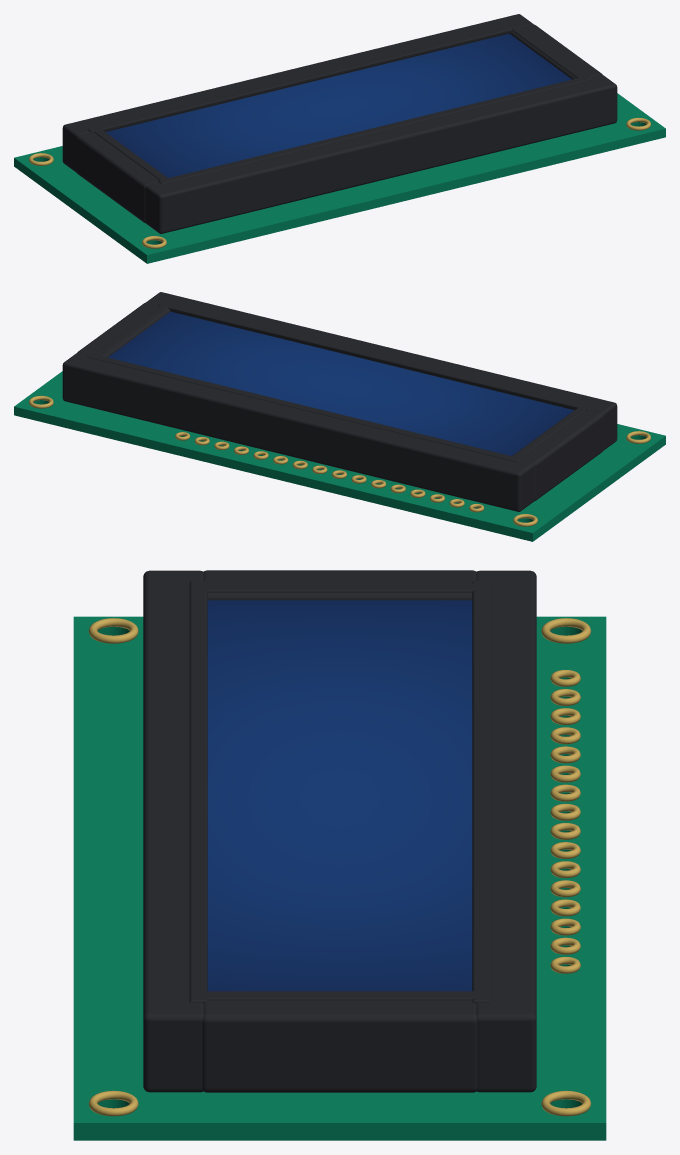
Rendered from components-21.glb.
3 views of the same model, one above another, from view 1: azimuth 30°, elevation 25°; view 2: azimuth 150°, elevation 25°; view 3: azimuth 270°, elevation 25° (orthographic). The views are drawn at different scales.
Parts seen in each view (by area): view 1: frame, display, pcb; view 2: frame, display, pcb, header; view 3: display, frame, pcb, header.
Boxes of the visible parts, left/top/right/bottom form: frame: left=62, top=14, right=617, bottom=233; display: left=105, top=33, right=571, bottom=177; pcb: left=14, top=93, right=665, bottom=263; frame: left=62, top=292, right=617, bottom=511; display: left=108, top=311, right=574, bottom=455; pcb: left=14, top=371, right=665, bottom=541; header: left=175, top=432, right=484, bottom=512; display: left=207, top=600, right=472, bottom=991; frame: left=143, top=570, right=536, bottom=1092; pcb: left=73, top=616, right=606, bottom=1140; header: left=550, top=670, right=580, bottom=973.
Bounding box in the file's own units: 3.6 × 0.321 × 1.6.
